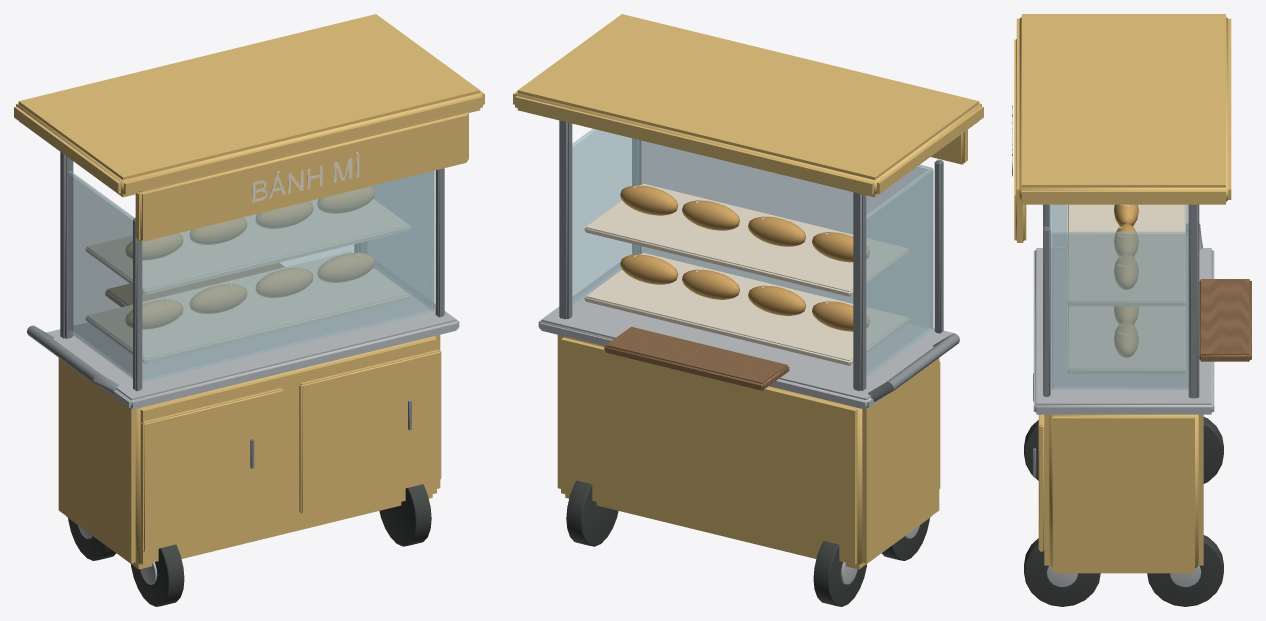
Rendered from BanhMiCart.glb.
3 views of the same model, side by side, from view 1: azimuth 30°, elevation 25°; view 2: azimuth 150°, elevation 25°; view 3: azimuth 270°, elevation 25° (orthographic).
Visible parts, largest first — view 1: ST_BanhMiCart_ST_yellow.001, ST_BanhMiCart_PBK_Indochine_glass.001, ST_BanhMiCart_ST_cream.001, ST_BanhMiCart_ST_steel.001, ST_BanhMiCart_ST_bread.001, ST_BanhMiCart_PBK_Indochine_metal.001, ST_BanhMiCart_ST_black.001, ST_Prep_Board.001; view 2: ST_BanhMiCart_ST_yellow.001, ST_BanhMiCart_PBK_Indochine_glass.001, ST_BanhMiCart_ST_cream.001, ST_BanhMiCart_ST_steel.001, ST_BanhMiCart_ST_bread.001, ST_BanhMiCart_PBK_Indochine_metal.001, ST_Prep_Board.001, ST_BanhMiCart_ST_black.001; view 3: ST_BanhMiCart_ST_yellow.001, ST_BanhMiCart_PBK_Indochine_glass.001, ST_BanhMiCart_ST_cream.001, ST_BanhMiCart_ST_steel.001, ST_BanhMiCart_ST_black.001, ST_Prep_Board.001, ST_BanhMiCart_PBK_Indochine_metal.001, ST_BanhMiCart_ST_bread.001.
Boxes of the visible parts, x1,y1,x2,y2 form: ST_BanhMiCart_ST_yellow.001: [14, 14, 484, 569]; ST_BanhMiCart_PBK_Indochine_glass.001: [68, 170, 434, 382]; ST_BanhMiCart_ST_cream.001: [86, 152, 410, 363]; ST_BanhMiCart_ST_steel.001: [46, 296, 459, 584]; ST_BanhMiCart_ST_bread.001: [125, 186, 374, 329]; ST_BanhMiCart_PBK_Indochine_metal.001: [27, 152, 444, 468]; ST_BanhMiCart_ST_black.001: [68, 484, 431, 606]; ST_Prep_Board.001: [105, 263, 284, 306]; ST_BanhMiCart_ST_yellow.001: [513, 14, 983, 569]; ST_BanhMiCart_PBK_Indochine_glass.001: [572, 128, 933, 377]; ST_BanhMiCart_ST_cream.001: [584, 184, 909, 365]; ST_BanhMiCart_ST_steel.001: [538, 254, 955, 584]; ST_BanhMiCart_ST_bread.001: [620, 185, 869, 331]; ST_BanhMiCart_PBK_Indochine_metal.001: [559, 120, 959, 401]; ST_Prep_Board.001: [604, 326, 789, 390]; ST_BanhMiCart_ST_black.001: [566, 480, 929, 606]; ST_BanhMiCart_ST_yellow.001: [1014, 14, 1231, 573]; ST_BanhMiCart_PBK_Indochine_glass.001: [1049, 204, 1188, 389]; ST_BanhMiCart_ST_cream.001: [1012, 105, 1185, 373]; ST_BanhMiCart_ST_steel.001: [1033, 248, 1214, 587]; ST_BanhMiCart_ST_black.001: [1024, 417, 1223, 606]; ST_Prep_Board.001: [1199, 279, 1251, 361]; ST_BanhMiCart_PBK_Indochine_metal.001: [1033, 204, 1202, 477]; ST_BanhMiCart_ST_bread.001: [1114, 204, 1138, 357].
Size of the model in its own units: 1.72 by 2.04 by 0.9935.
Materials: 8 (1 with a texture image).
